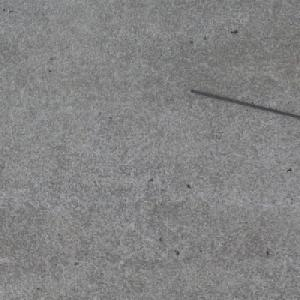LuggagePart: (189, 89, 300, 119)
